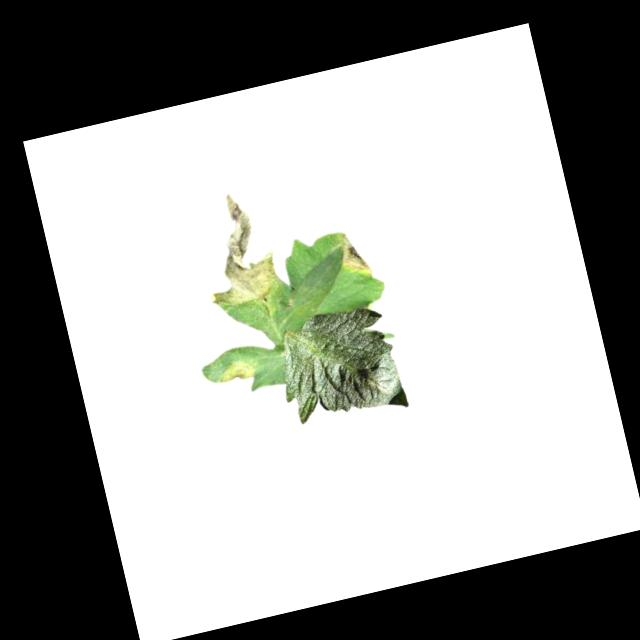Late_blight: (186, 184, 283, 313), (329, 227, 374, 281), (215, 353, 261, 391)
